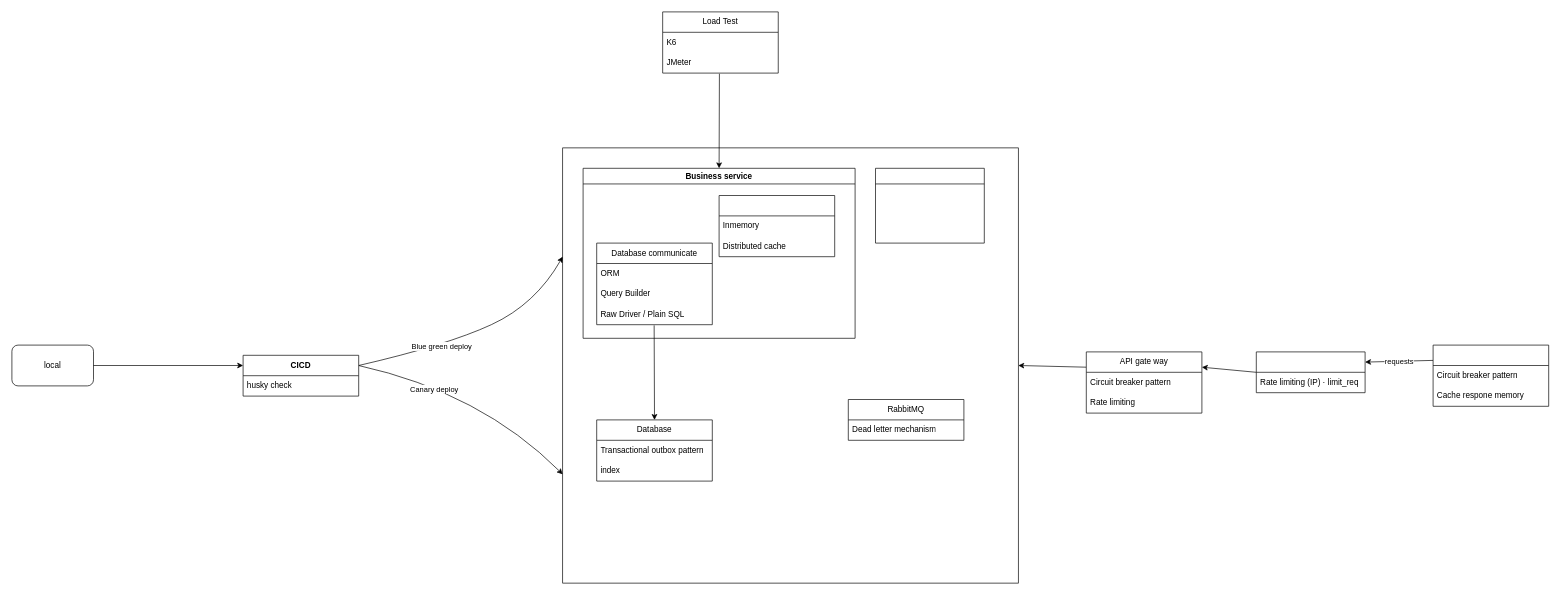
This 1561x595 diagram has some shape labels left out. The box of each missing label's shape, as (x1, y1, x2, y2) in pixels:
Browser: (1432, 344, 1549, 406)
Caching: (718, 195, 835, 257)
Edge / nginx: (1256, 351, 1365, 393)
Notification service: (875, 168, 984, 243)
